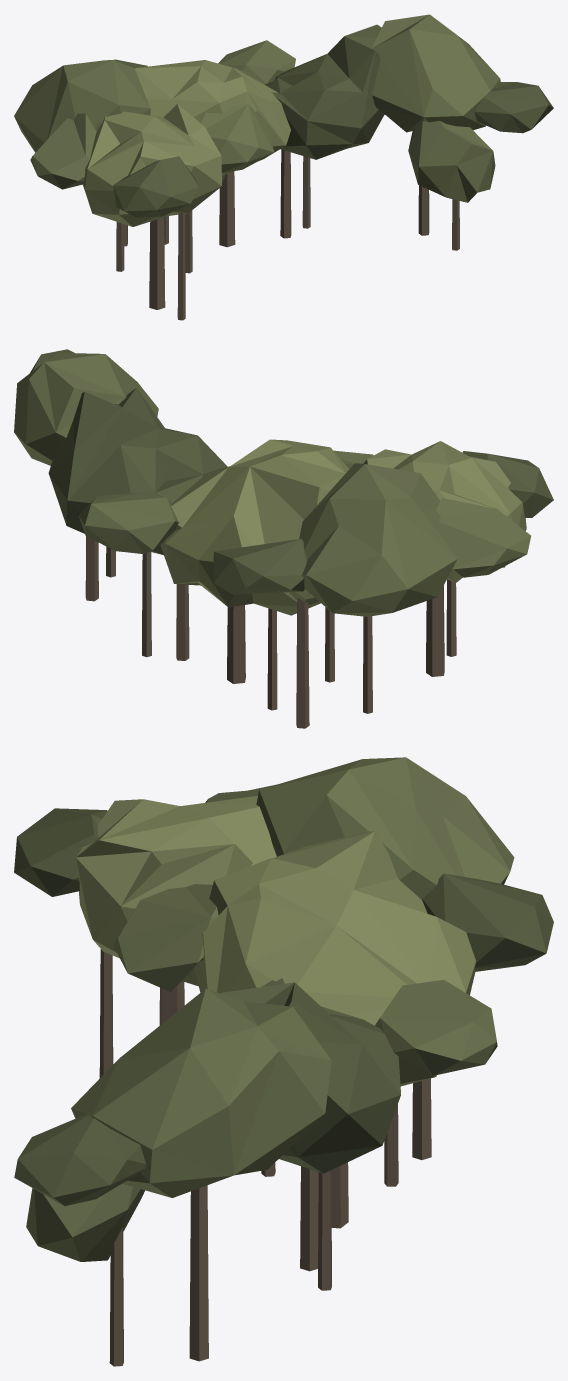
File: tree_patch.glb
3 views of the same model, one above another, from view 1: azimuth 30°, elevation 25°; view 2: azimuth 150°, elevation 25°; view 3: azimuth 270°, elevation 25° (orthographic). The views are drawn at different scales.
Parts seen in each view (by area): view 1: SM_Generic_Tree_Patch_02; view 2: SM_Generic_Tree_Patch_02; view 3: SM_Generic_Tree_Patch_02.
Part boxes in pixels (box(x1,y1,x2,y2)): SM_Generic_Tree_Patch_02: box(14, 14, 553, 320); SM_Generic_Tree_Patch_02: box(14, 349, 553, 728); SM_Generic_Tree_Patch_02: box(14, 757, 553, 1366).
Bounding box in the file's own units: 3.92 × 1.69 × 2.29.
Materials: 1 (1 with a texture image).
